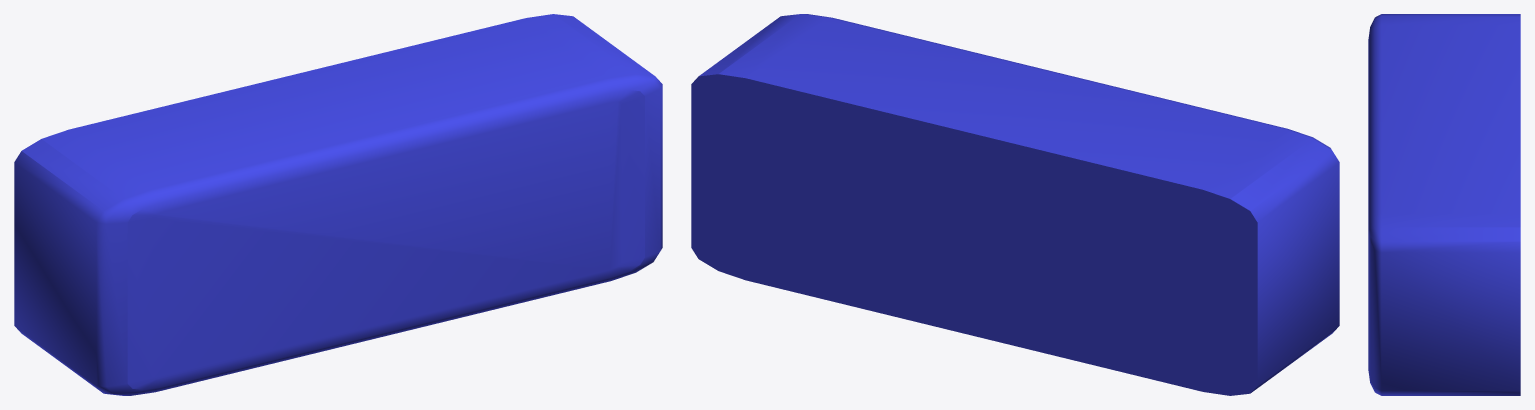
The model's file is Button.fbx.
3 renders of one model, left to right at view 1: azimuth 30°, elevation 25°; view 2: azimuth 150°, elevation 25°; view 3: azimuth 270°, elevation 25°, orthographic. The views are drawn at different scales.
Parts seen in each view (by area): view 1: Cube; view 2: Cube; view 3: Cube.
Boxes of the visible parts, x1,y1,x2,y2 form: Cube: [14, 14, 662, 395]; Cube: [691, 14, 1339, 395]; Cube: [1368, 14, 1520, 395].
Bounding box in the file's own units: 240 × 81.89 × 66.1.
